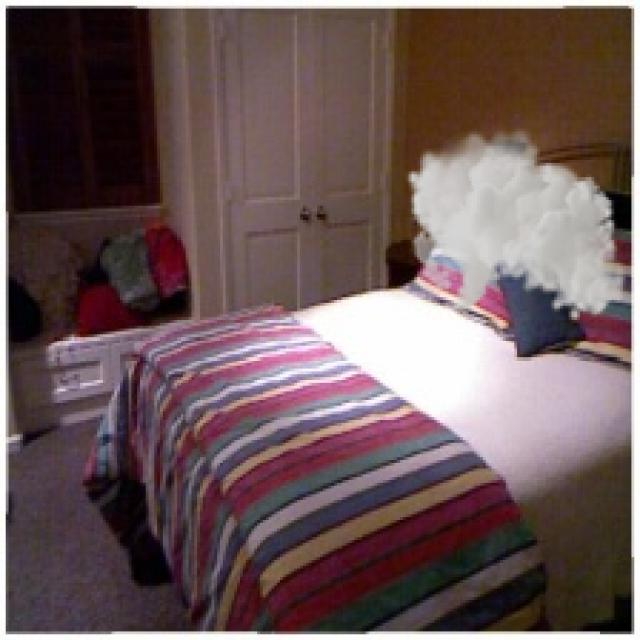smoke: (406, 123, 626, 323)
